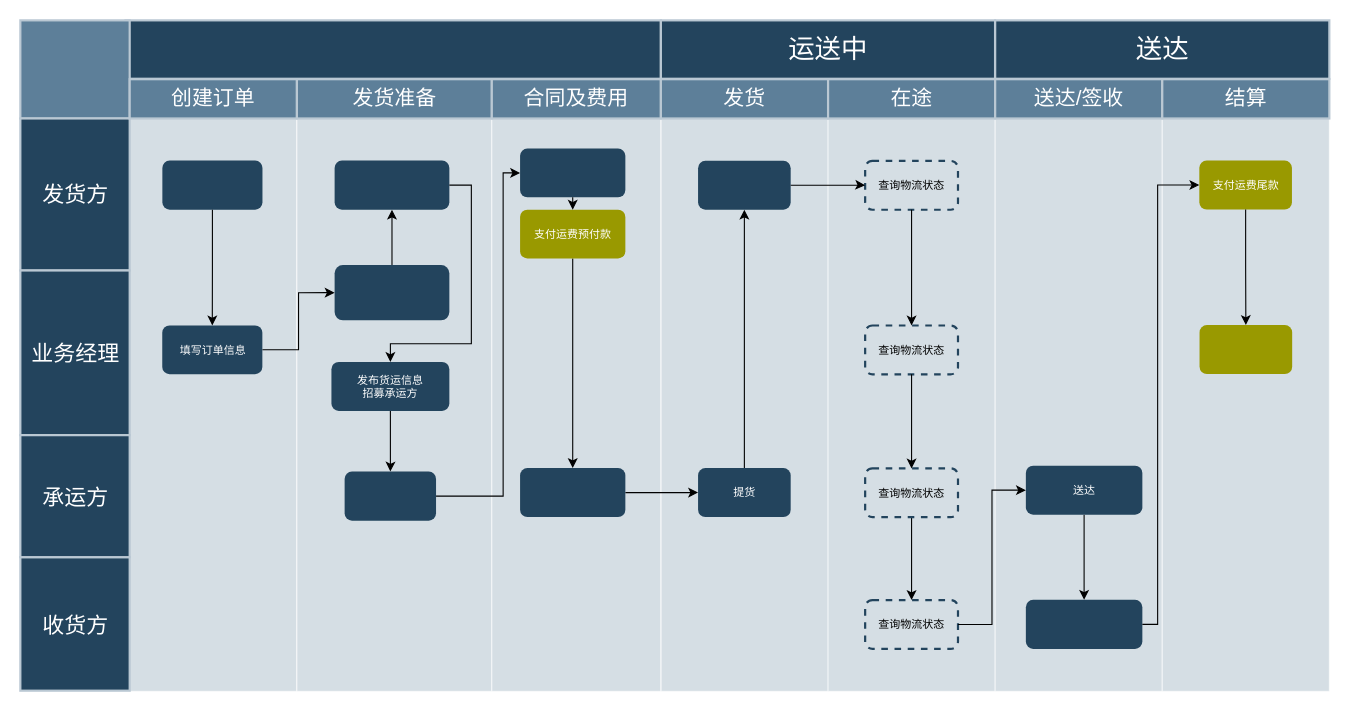
The diagram is 1349 pixels wide and 711 high, and some of its shapes have lost their labels. The box of each missing label's shape, as (x1, y1, x2, y2) in pixels:
v 1.0: (19, 19, 130, 119)
制定运输方案、 应急预案: (334, 264, 449, 320)
发货确认: (698, 160, 790, 209)
应标: (344, 471, 435, 520)
提交运输请求: (162, 160, 262, 209)
支付承运费用: (1199, 324, 1292, 374)
检查验收、回单: (1025, 599, 1142, 648)
确认运输方案、 应急预案: (334, 160, 449, 209)
签订发货合同: (520, 148, 625, 197)
签订承运合同: (520, 468, 625, 517)
运送前: (124, 19, 661, 79)
